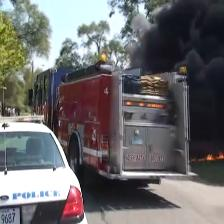smoke: (170, 25, 224, 82), (146, 34, 163, 70)
